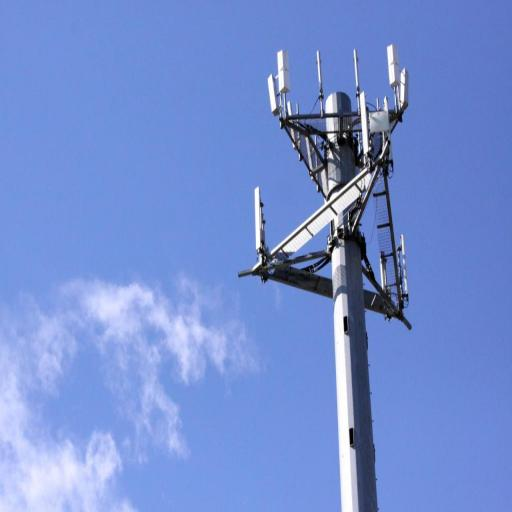monopole_tower: (240, 14, 414, 512)
